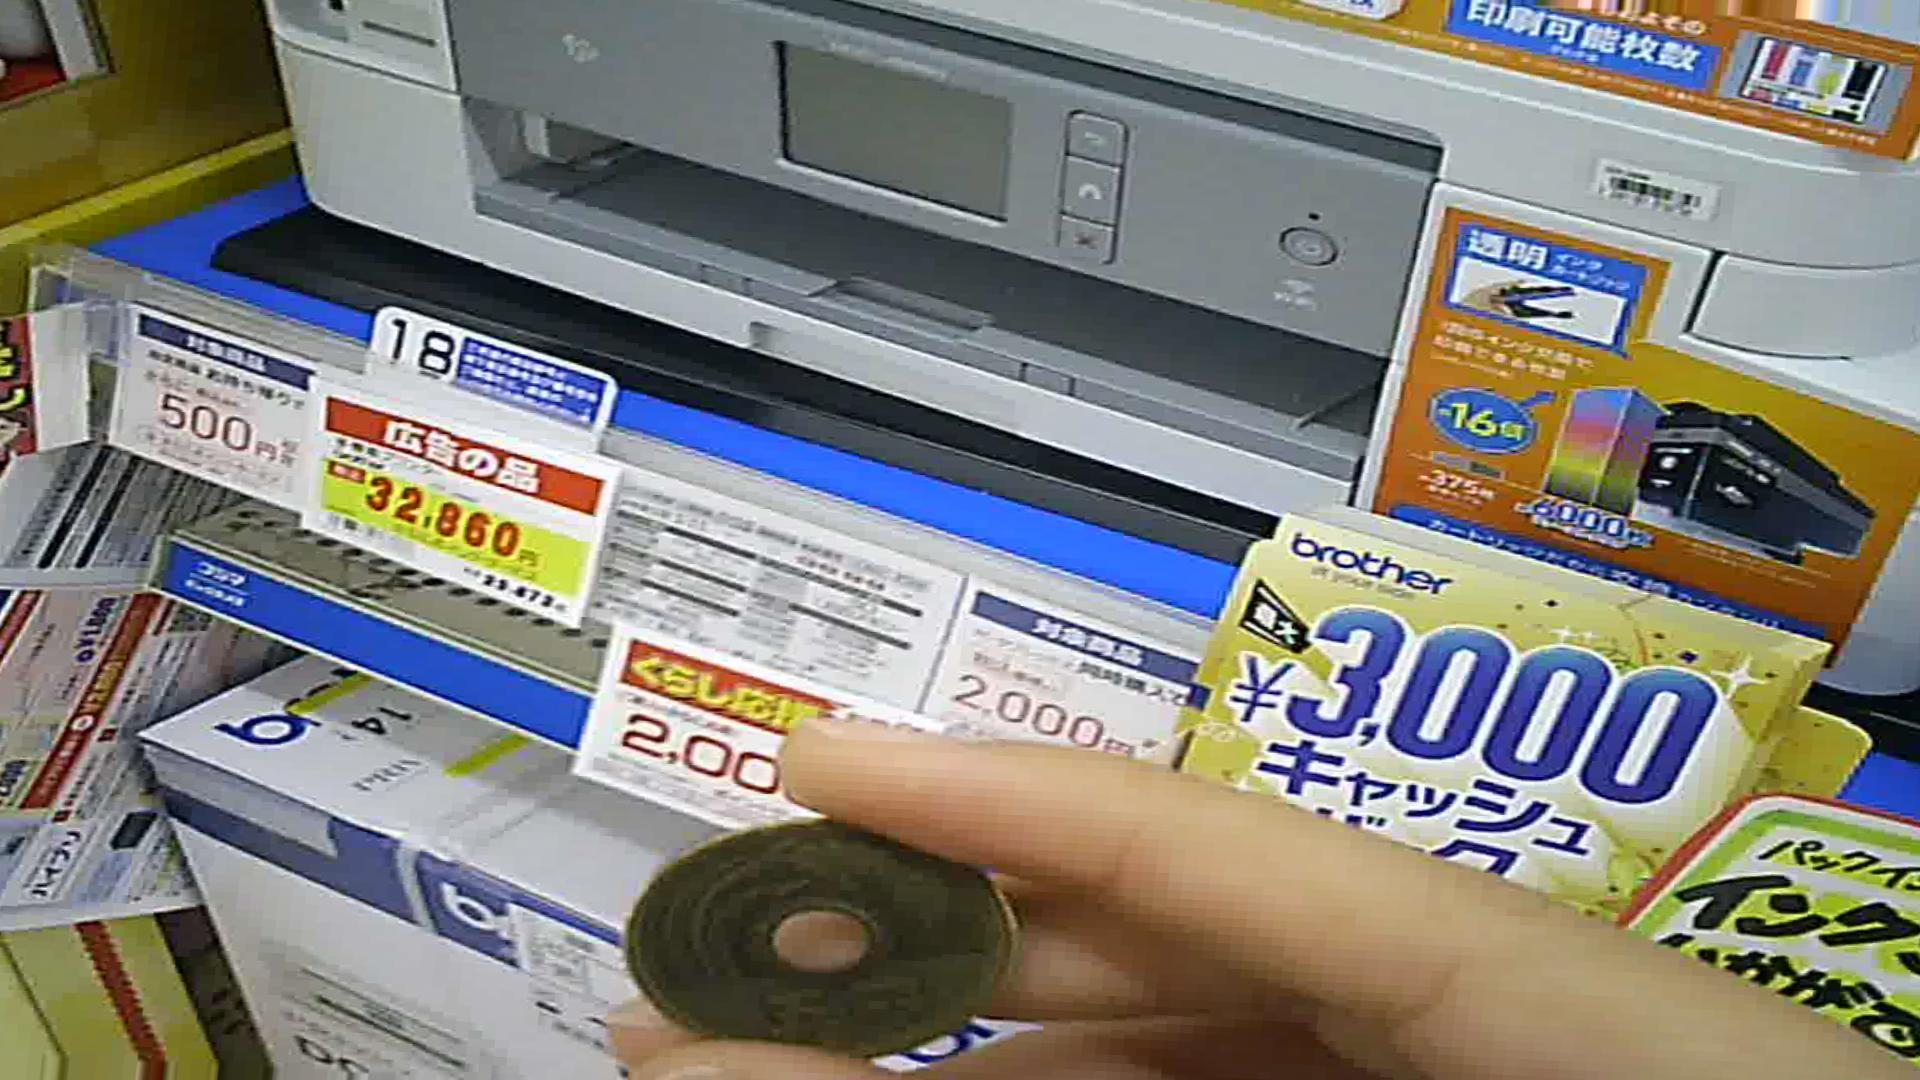5 Yen: (616, 814, 1018, 1054)
